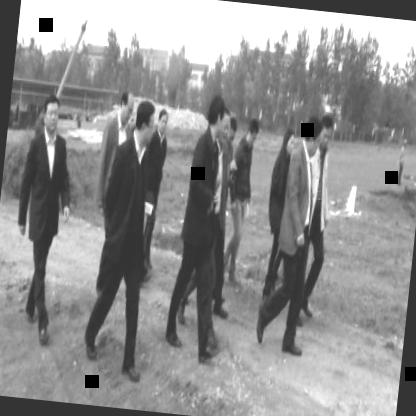head: (129, 95, 161, 153), (298, 113, 322, 161), (204, 90, 224, 146), (38, 90, 62, 136), (316, 104, 336, 150), (117, 86, 136, 130), (243, 112, 261, 152), (280, 124, 298, 157), (216, 108, 231, 144), (224, 114, 240, 146), (154, 104, 170, 135)
